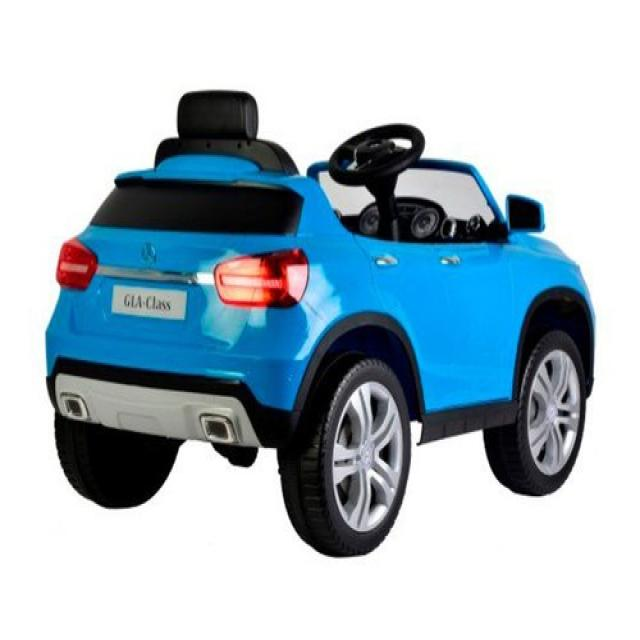Car: (44, 88, 596, 558)
